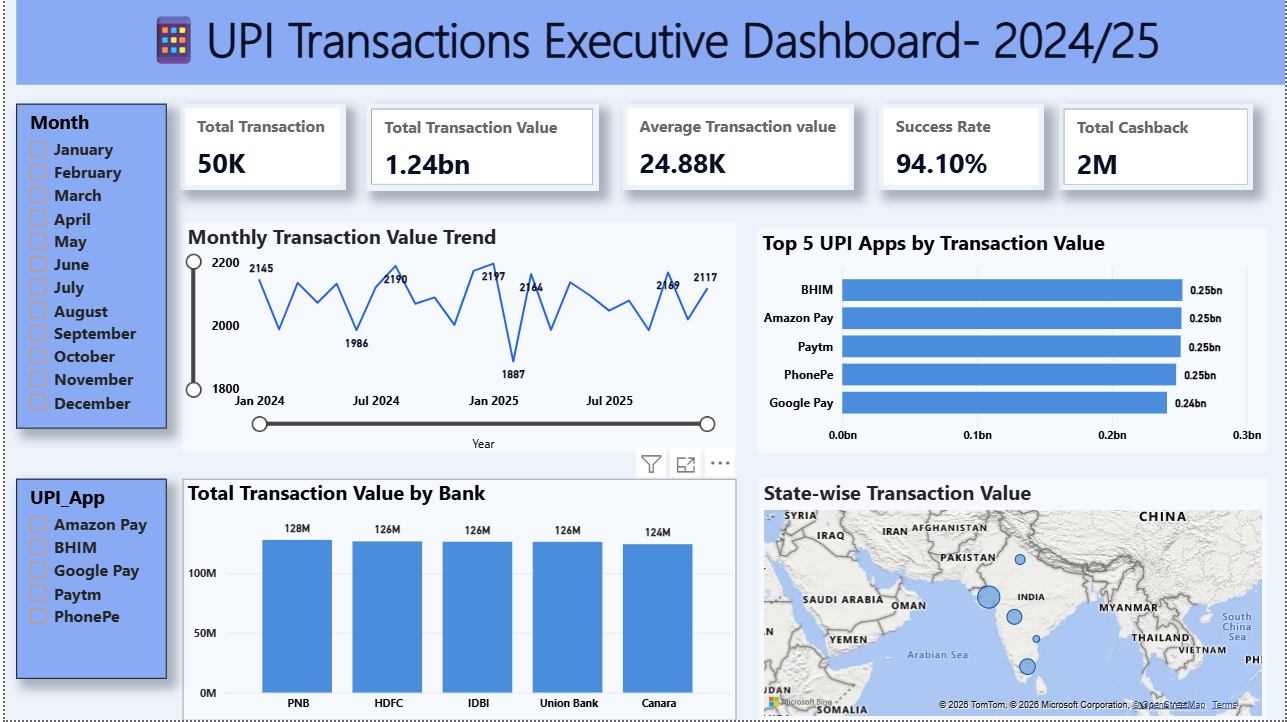

What the dashboard file says about the page in this screenshot:
{"tool":"powerbi","page":{"name":"Page 1","canvas":[1280,720],"ordinal":0},"visuals":[{"type":"textbox","box":[11.1,0,1268.9,84.9],"z":0},{"type":"cardVisual","fields":{"Data":["Fact_UPI_Transactions.Total Transaction"]},"box":[175.3,104.3,165.6,86.3],"z":1000},{"type":"cardVisual","fields":{"Data":["Fact_UPI_Transactions.Success Rate %"]},"box":[873.7,104.3,165.6,86.3],"z":2000},{"type":"cardVisual","fields":{"Data":["Fact_UPI_Transactions.Average Transaction Value"]},"box":[617.7,104.3,232.3,86.3],"z":3000},{"type":"lineChart","title":"Monthly Transaction Value Trend","fields":{"Category":["Date.Date.Variation.Date Hierarchy.Year","Date.Date.Variation.Date Hierarchy.Month"],"Y":["Date.Total Transactions"]},"box":[178.1,222.6,553.7,229.6],"z":4000},{"type":"clusteredBarChart","title":"Top 5 UPI Apps by Transaction Value","fields":{"Category":["Fact_UPI_Transactions.UPI_App"],"Y":["Fact_UPI_Transactions.Total Transaction Value"]},"box":[752.7,228.2,509.2,224],"z":5000},{"type":"columnChart","fields":{"Category":["Fact_UPI_Transactions.Bank"],"Y":["Fact_UPI_Transactions.Total Transaction Value"]},"box":[178.1,478.6,553.7,242.1],"z":6000},{"type":"cardVisual","fields":{"Data":["Fact_UPI_Transactions.Total Transaction Value"]},"box":[360.7,103.8,232.8,86.9],"z":7000},{"type":"map","title":"State-wise Transaction Value","fields":{"Category":["Fact_UPI_Transactions.State"],"Size":["Fact_UPI_Transactions.Total Transaction Value"]},"box":[753.3,478.7,508,242.7],"z":8000},{"type":"slicer","fields":{"Values":["Date.Month"]},"box":[11.1,104.2,150,325],"z":9000},{"type":"slicer","fields":{"Values":["Fact_UPI_Transactions.UPI_App"]},"box":[11.1,479.2,150,200],"z":10000},{"type":"cardVisual","fields":{"Data":["Fact_UPI_Transactions.Total Cashback"]},"box":[1053.3,104,194.7,86.7],"z":11000}]}

Visuals, with their boxes in screenshot pixels (x1, y1, x2, y2), scaled from the page's 1280x720 canvas onto the 1287x722 screenshot:
textbox: [left=11, top=0, right=1286, bottom=85]
cardVisual - Fact_UPI_Transactions.Total Transaction: [left=176, top=105, right=343, bottom=191]
cardVisual - Fact_UPI_Transactions.Success Rate %: [left=878, top=105, right=1045, bottom=191]
cardVisual - Fact_UPI_Transactions.Average Transaction Value: [left=621, top=105, right=855, bottom=191]
"Monthly Transaction Value Trend" lineChart: [left=179, top=223, right=736, bottom=453]
"Top 5 UPI Apps by Transaction Value" clusteredBarChart: [left=757, top=229, right=1269, bottom=453]
columnChart - Fact_UPI_Transactions.Bank x Fact_UPI_Transactions.Total Transaction Value: [left=179, top=480, right=736, bottom=721]
cardVisual - Fact_UPI_Transactions.Total Transaction Value: [left=363, top=104, right=597, bottom=191]
"State-wise Transaction Value" map: [left=757, top=480, right=1268, bottom=721]
slicer - Date.Month: [left=11, top=104, right=162, bottom=430]
slicer - Fact_UPI_Transactions.UPI_App: [left=11, top=481, right=162, bottom=681]
cardVisual - Fact_UPI_Transactions.Total Cashback: [left=1059, top=104, right=1255, bottom=191]
